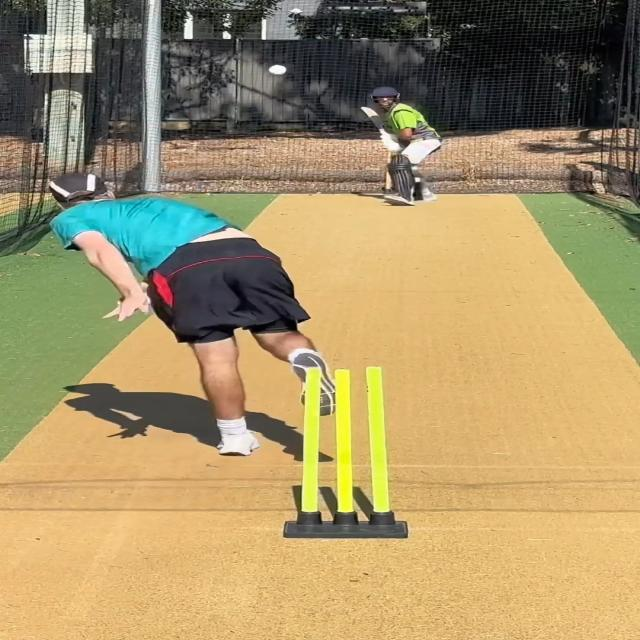ball: (266, 63, 288, 77)
stump: (282, 363, 410, 539)
